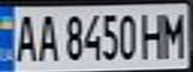0: (118, 10, 142, 61)
4: (81, 10, 103, 62)
5: (100, 10, 121, 61)
8: (60, 10, 84, 62)
A: (9, 10, 39, 62), (33, 10, 60, 63)
H: (136, 9, 166, 61)
M: (157, 8, 190, 60)
